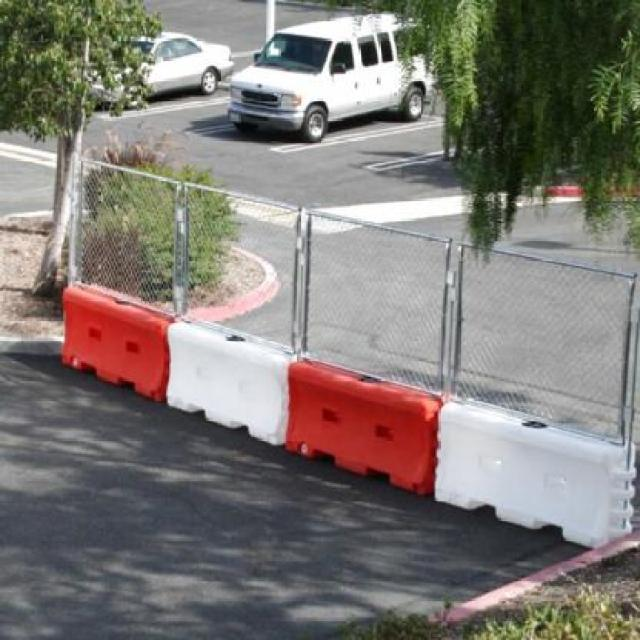fallen_object: (412, 386, 637, 573), (270, 337, 436, 513), (22, 256, 177, 411), (156, 310, 288, 452)
